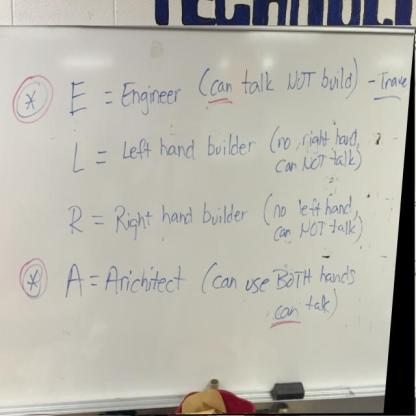Handwritten text: (56, 247, 371, 334), (60, 62, 408, 118), (55, 124, 372, 181), (36, 190, 359, 245)
Whiteboard: (0, 18, 414, 416)
